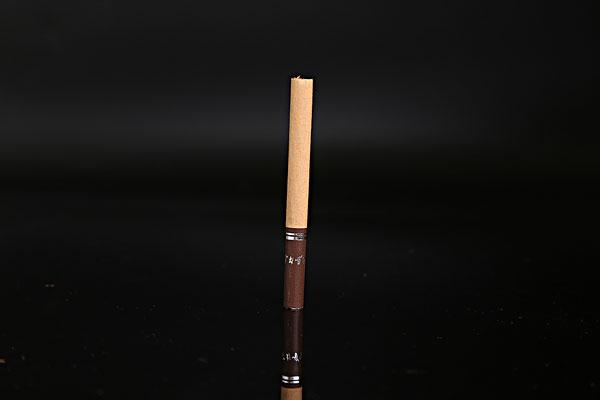smoke: (277, 70, 322, 310)
